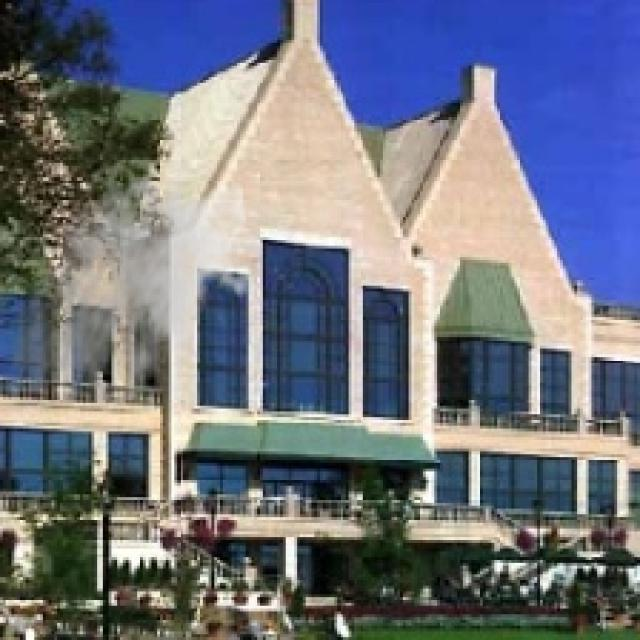Smoke: (8, 166, 255, 423)
